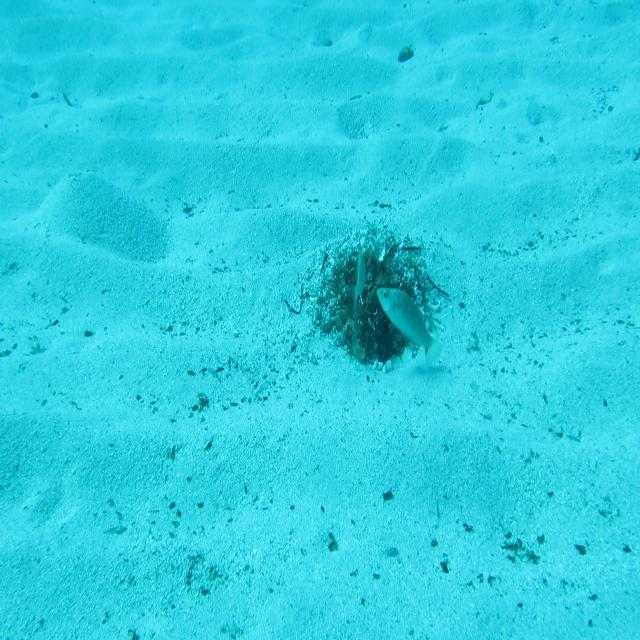GB: (376, 284, 445, 371)
female: (346, 242, 368, 315)
nest: (317, 198, 444, 364)
